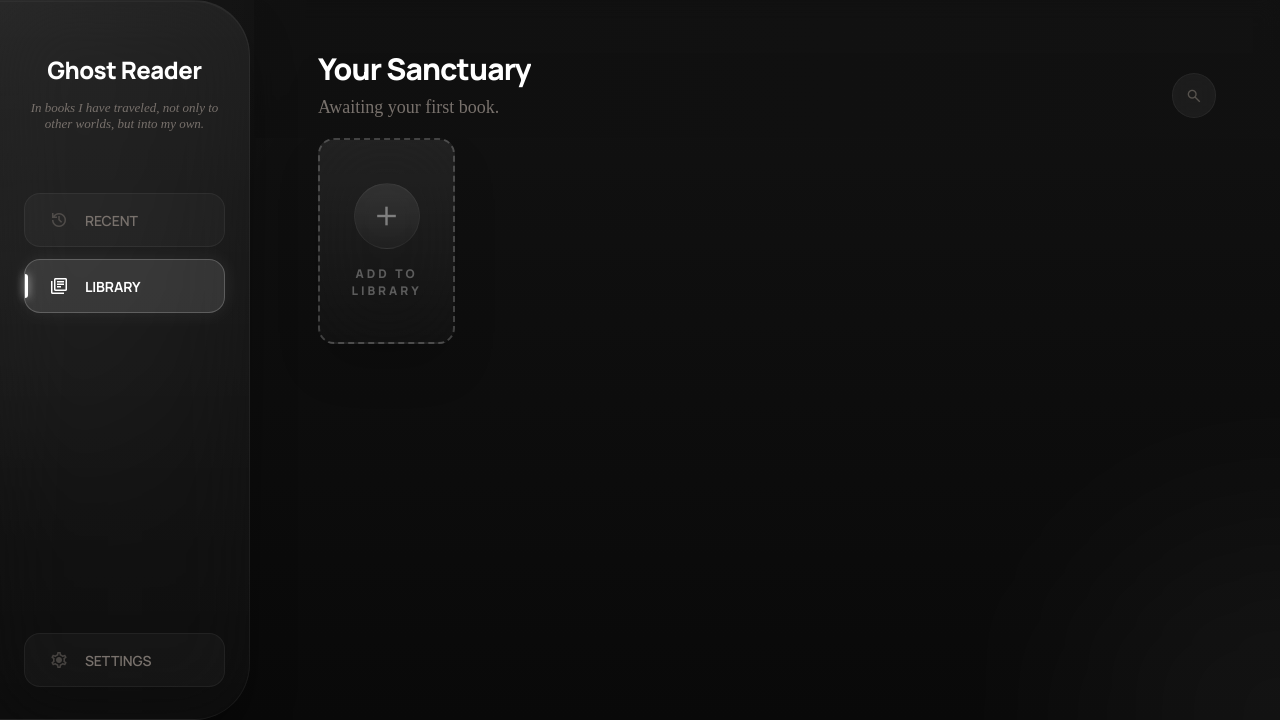
Scenario: BookshelfPage › renders newly imported books immediately without remounting
Click the button with aria-label "Add a book to your library".
click(387, 241)  # box [318,138,455,344]
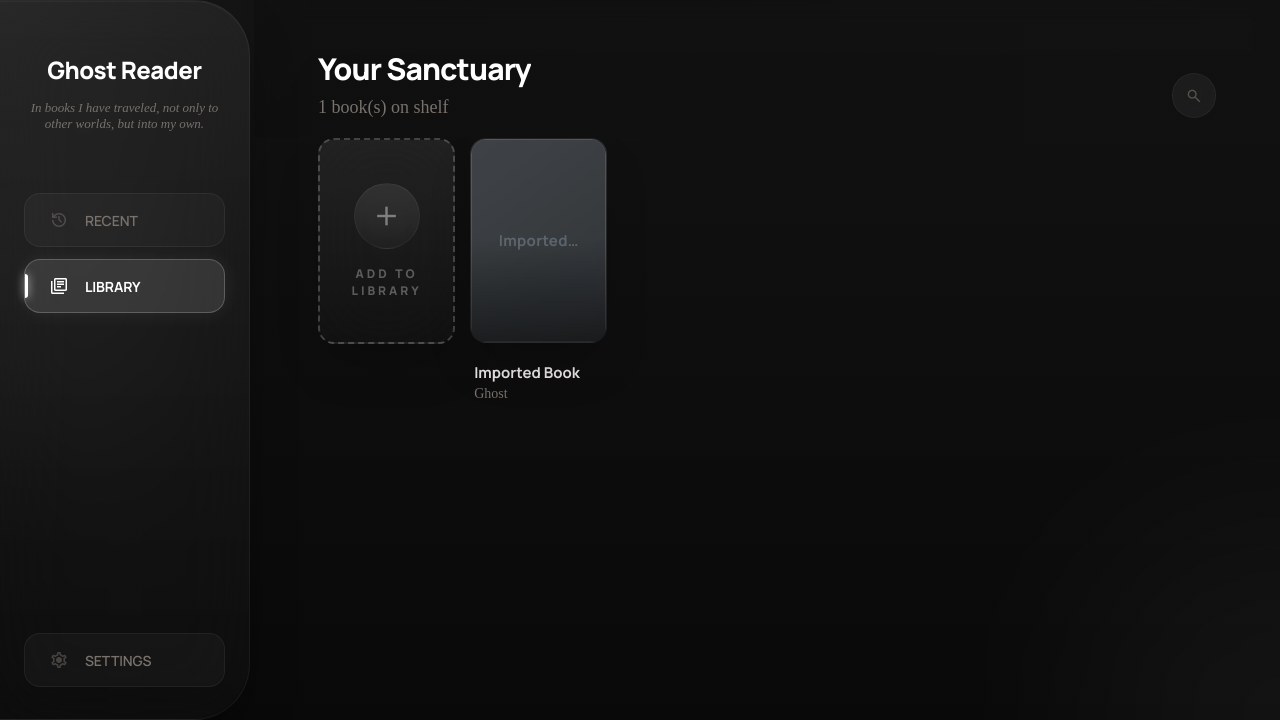
Result: the text "Imported Book" is shown at [474,362,580,383]
